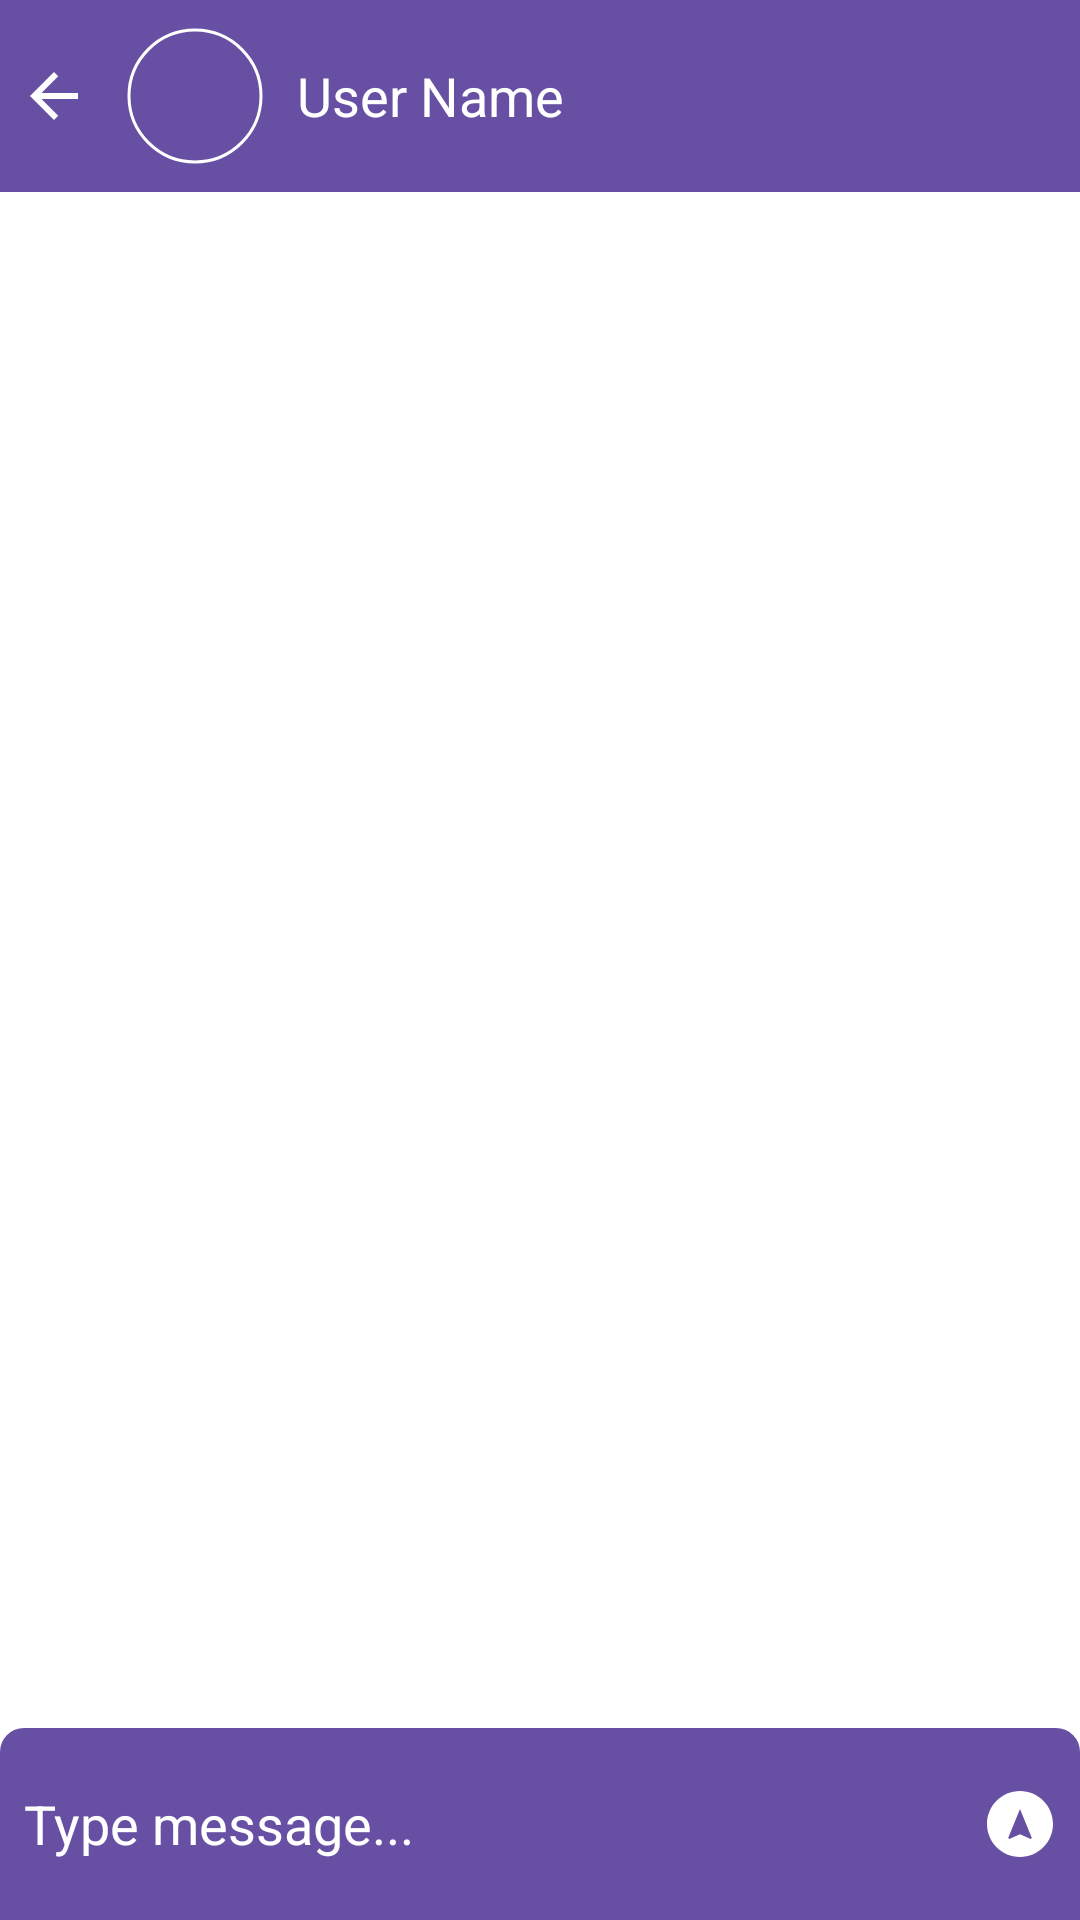

Locate icon controls on the screen. Image size 1080w x 1920h, boxes as detection(x1, y1, x2, y2).
arrow back: detection(30, 72, 78, 120)
send: detection(987, 1791, 1053, 1857)
